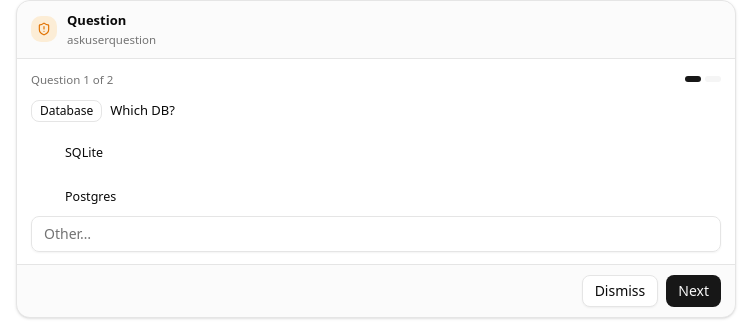
question card shows exactly one question at a time with N of M progress
This screenshot has width=753, height=336.
Expected: the text "Question 1 of 2" is shown, [31,71,113,88]
Expected: the heading "Which DB?" is shown, [110,101,175,121]
Click the button "Next".
click(694, 291)  # box [666,275,721,307]
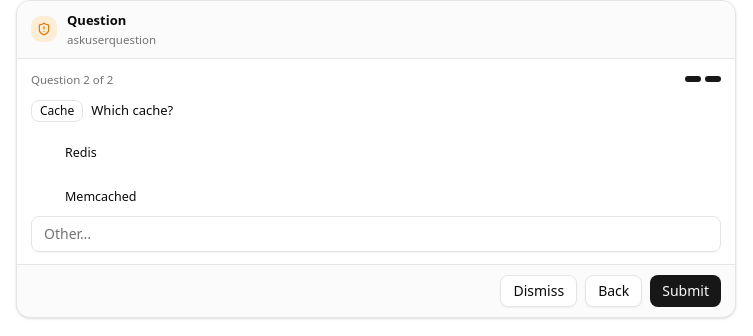
Result: the text "Question 2 of 2" is shown at [31,71,113,88]
Result: the heading "Which DB?" is gone
Result: the heading "Which cache?" is shown at [91,101,173,121]
